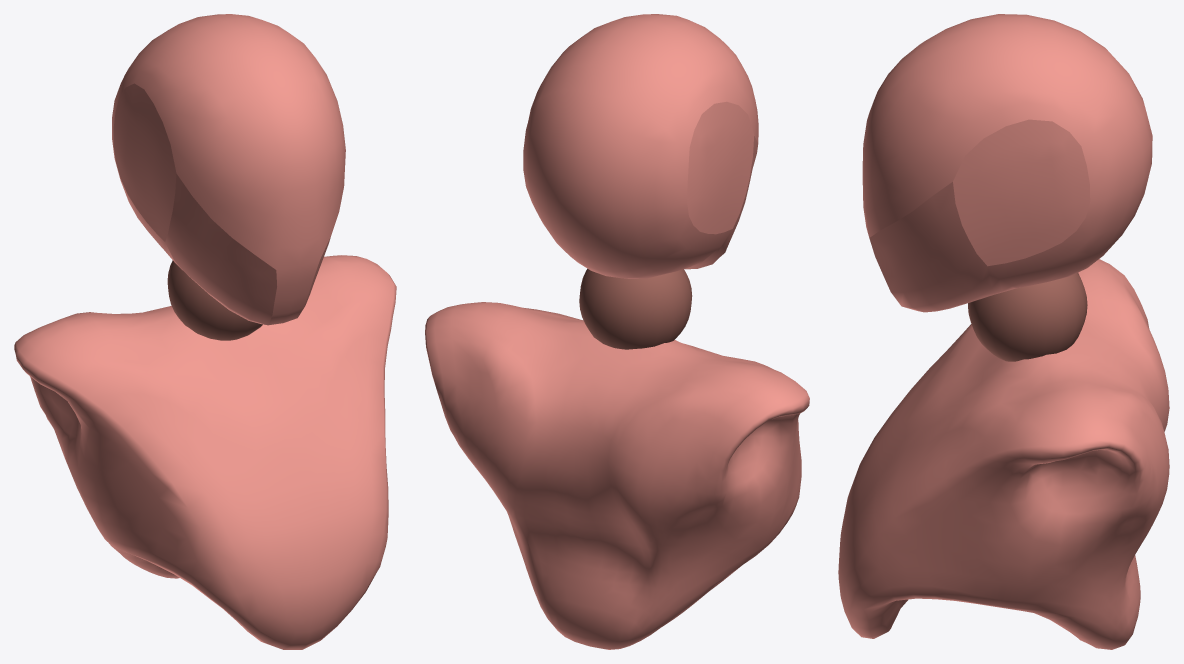
The model's file is HairStudioDemo_mixamo bust.fbx.
The picture shows the model from 3 angles, left to right: view 1: azimuth 30°, elevation 25°; view 2: azimuth 150°, elevation 25°; view 3: azimuth 270°, elevation 25°; orthographic projection. The views are drawn at different scales.
Visible parts, largest first — view 1: Beta_Surface, Beta_Joints; view 2: Beta_Surface, Beta_Joints; view 3: Beta_Surface, Beta_Joints.
Boxes of the visible parts, x1,y1,x2,y2 form: Beta_Surface: (14,14,396,649); Beta_Joints: (167,260,262,340); Beta_Surface: (425,14,809,649); Beta_Joints: (579,268,692,349); Beta_Surface: (838,14,1169,649); Beta_Joints: (968,273,1087,361).
Bounding box in the file's own units: 38.57 × 58.26 × 28.37.
